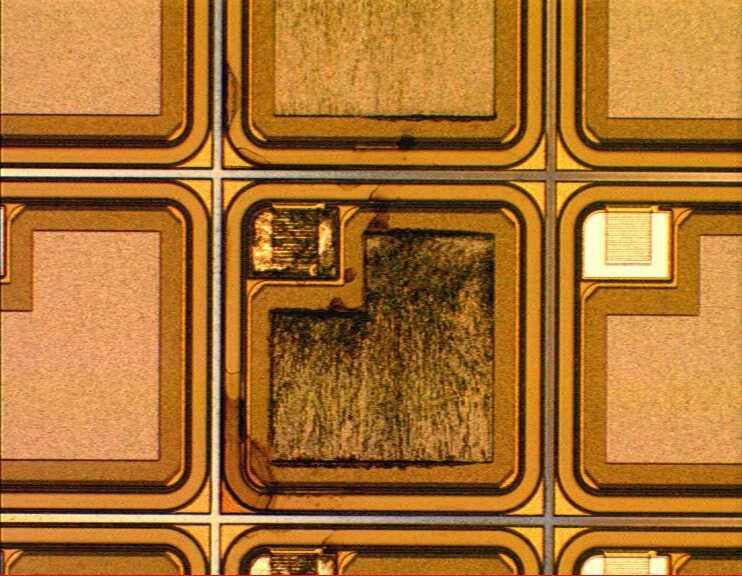SEZ BURNT: (222, 201, 524, 516)
